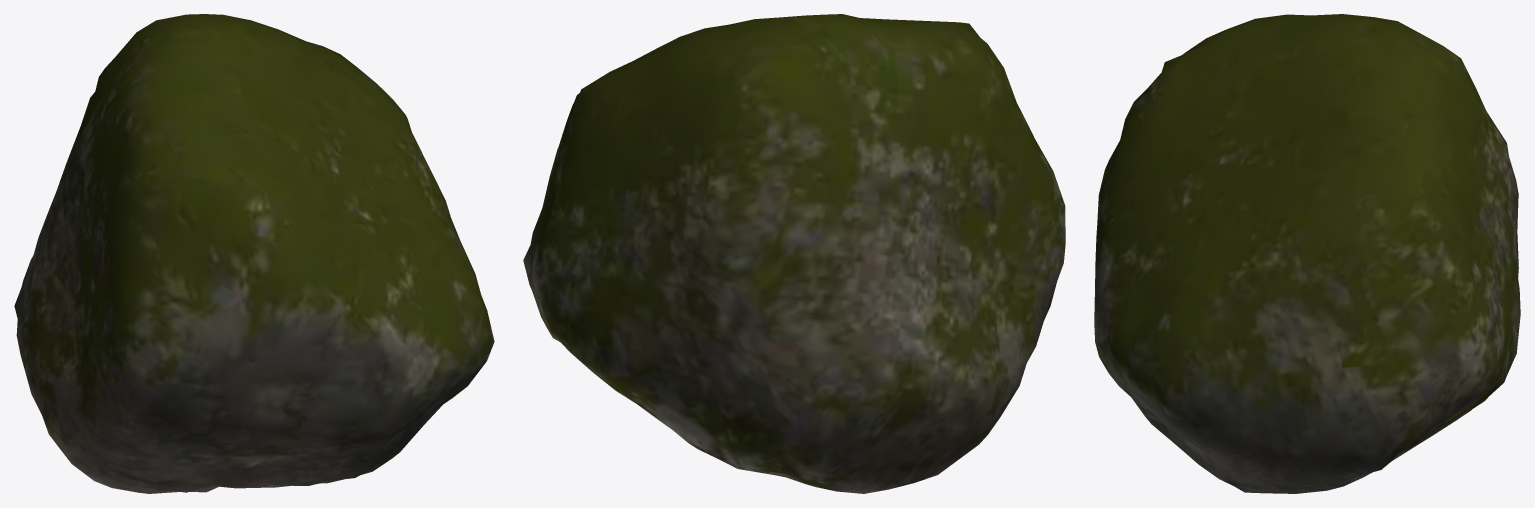
The model's file is rocks.glb.
The picture shows the model from 3 angles, left to right: view 1: azimuth 30°, elevation 25°; view 2: azimuth 150°, elevation 25°; view 3: azimuth 270°, elevation 25°; orthographic projection. The views are drawn at different scales.
Parts seen in each view (by area): view 1: A_Set; view 2: A_Set; view 3: A_Set.
Boxes of the visible parts, x1,y1,x2,y2 form: A_Set: (14, 14, 494, 493); A_Set: (523, 14, 1065, 493); A_Set: (1094, 14, 1520, 493).
Bounding box in the file's own units: 5.46 × 5.41 × 5.04.
1 material, 1 textured.
